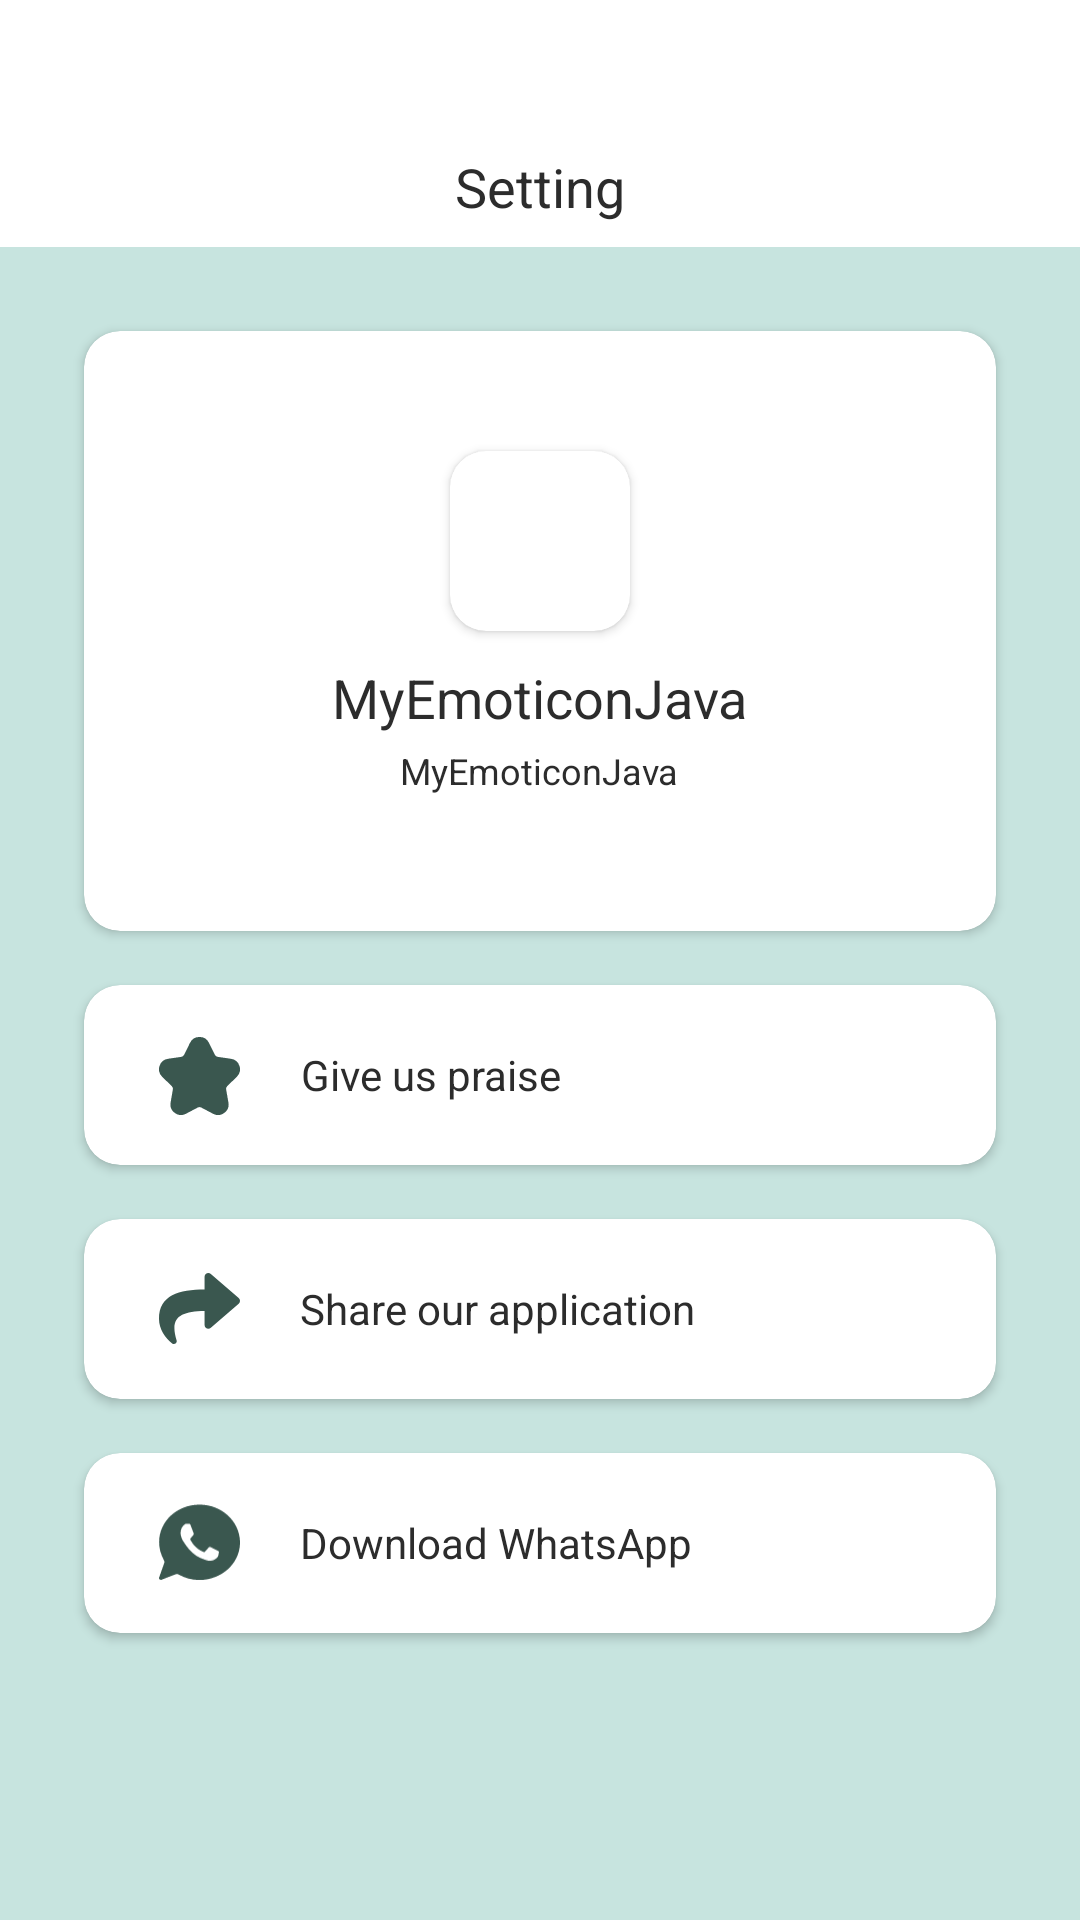

Named icons in this screenshot (1080 x 1920) and their bounding boxes, (x1, y1, x2, y2):
rating: (159, 1037, 240, 1115)
